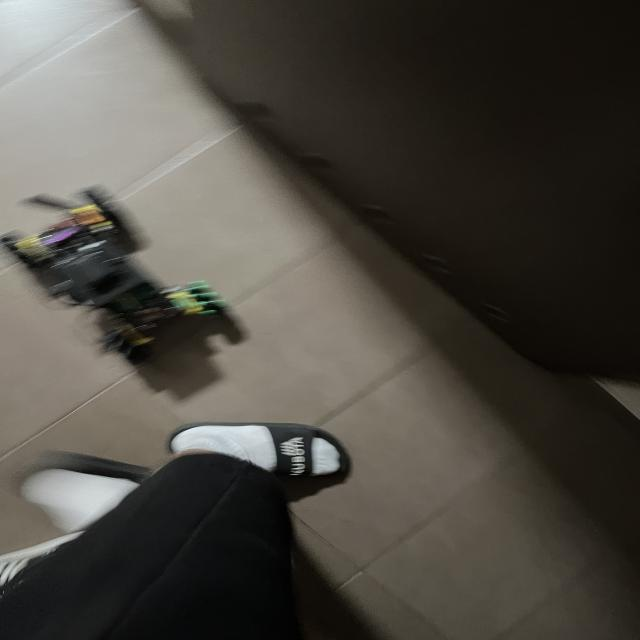robot: (0, 188, 228, 364)
